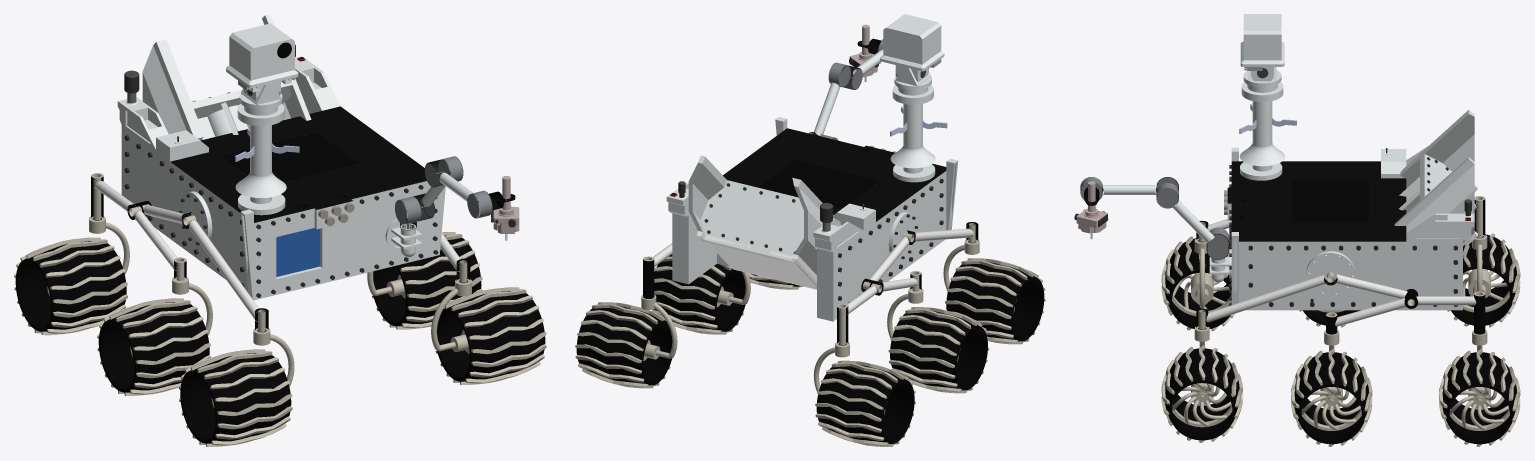
File: rover_asm_f_asm.glb
The picture shows the model from 3 angles, left to right: view 1: azimuth 30°, elevation 25°; view 2: azimuth 150°, elevation 25°; view 3: azimuth 270°, elevation 25°; orthographic projection. The views are drawn at different scales.
Parts seen in each view (by area): view 1: rover_asm_f_asm; view 2: rover_asm_f_asm; view 3: rover_asm_f_asm.
Boxes of the visible parts, x1=… form: rover_asm_f_asm: x1=14, y1=14, x2=546, y2=446; rover_asm_f_asm: x1=575, y1=14, x2=1045, y2=446; rover_asm_f_asm: x1=1074, y1=14, x2=1520, y2=446.
Size of the model in its own units: 4.68 by 4.72 by 5.87.
